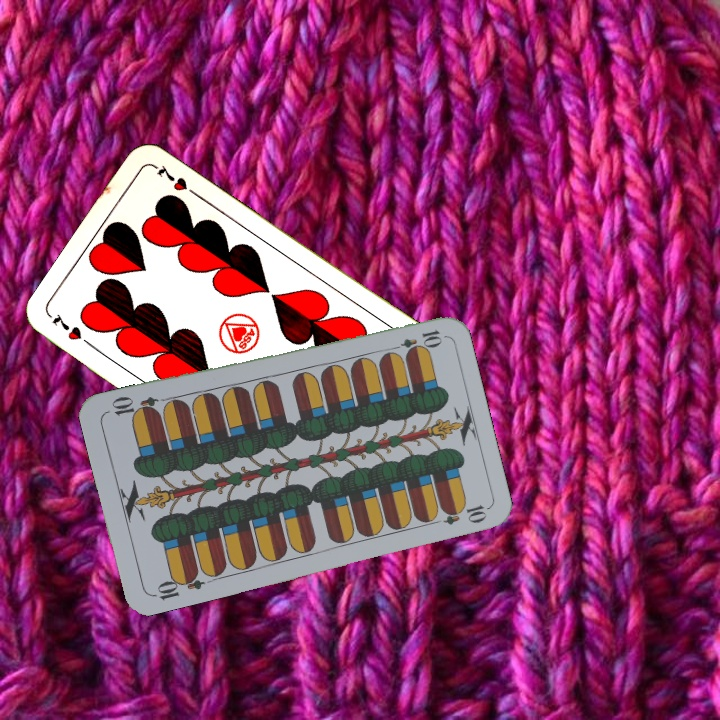E10: (148, 567, 206, 603), (386, 325, 445, 355)
H7: (48, 311, 98, 352)
